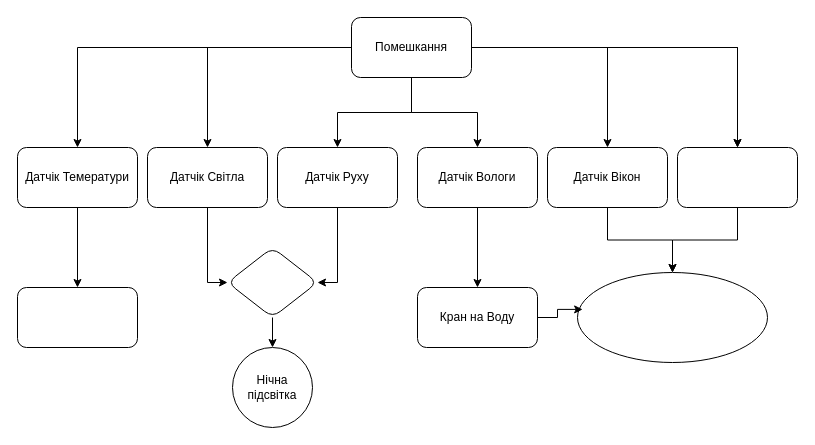
Some shapes in this 815 by 445 pixel diagram are drawn without their labels. Here are the shapes that lost their labels. From the top down, the centre of each, then its label:
(x=737, y=177): Датчік Дверей
(x=272, y=282): умова
(x=77, y=317): Батарея опалення
(x=672, y=317): Сповіщення
